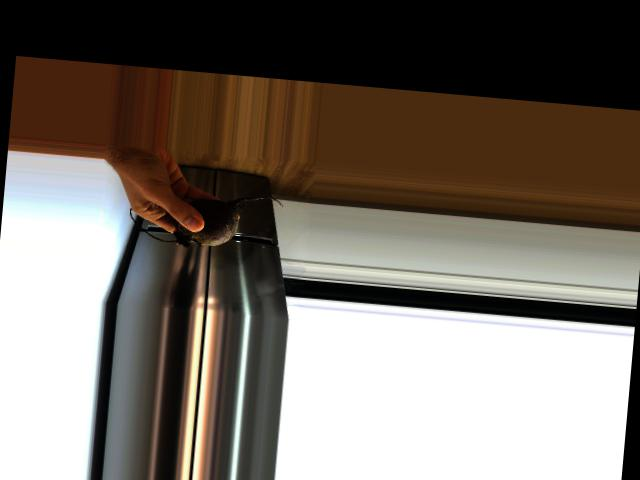beet: (127, 184, 285, 254)
